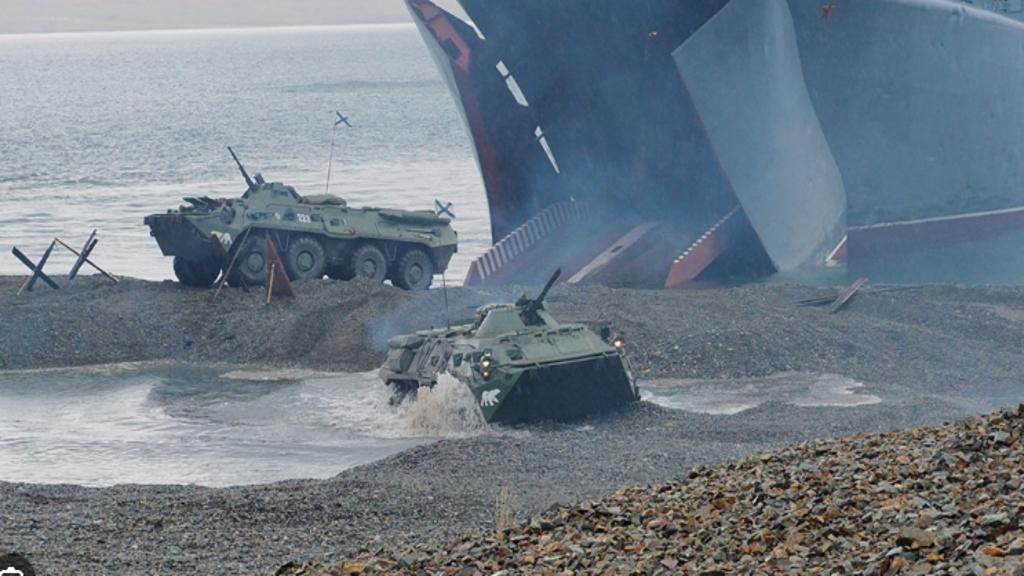APC-IFV: (141, 144, 464, 296), (381, 265, 643, 445)
